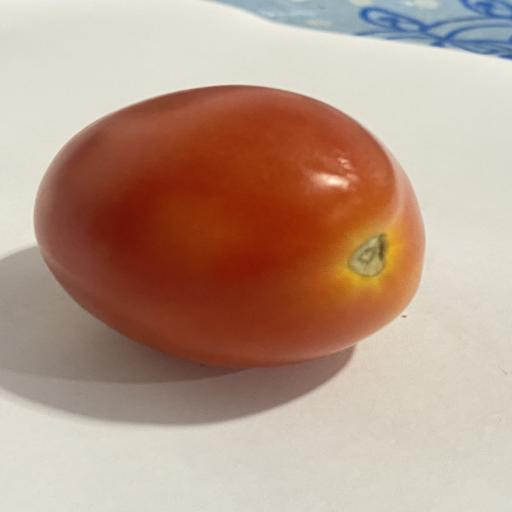ripe: (35, 85, 425, 367)
